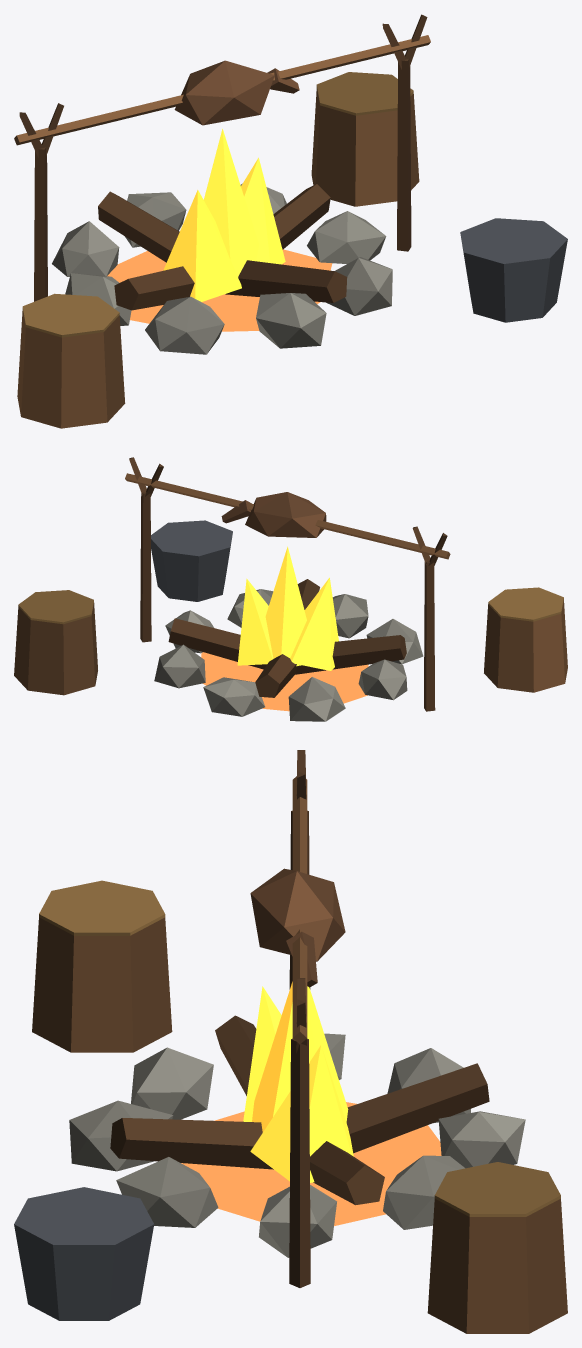
The model's file is goblin_campfire.glb.
3 views of the same model, one above another, from view 1: azimuth 30°, elevation 25°; view 2: azimuth 150°, elevation 25°; view 3: azimuth 270°, elevation 25° (orthographic). The views are drawn at different scales.
Parts seen in each view (by area): view 1: goblin_campfire; view 2: goblin_campfire; view 3: goblin_campfire.
Part boxes in pixels (box(x1,y1,x2,y2)): goblin_campfire: box(14, 14, 567, 428); goblin_campfire: box(14, 457, 567, 721); goblin_campfire: box(14, 750, 567, 1333).
Bounding box in the file's own units: 2.23 × 0.9192 × 1.54.
